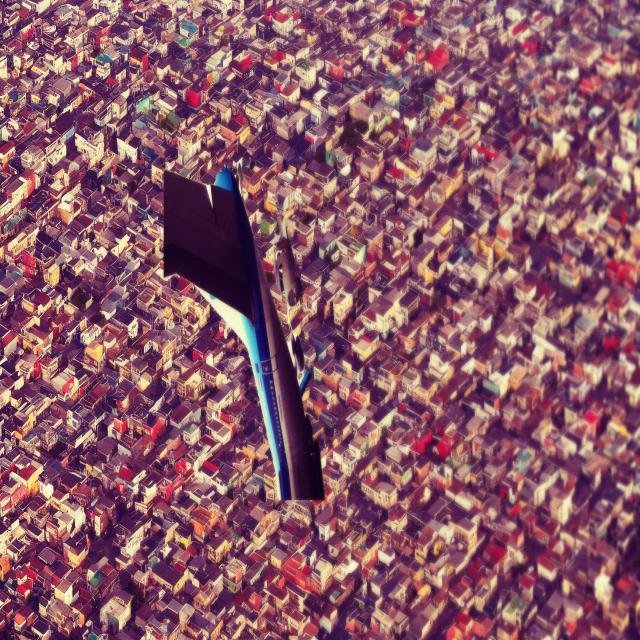airplane: (162, 162, 325, 502)
